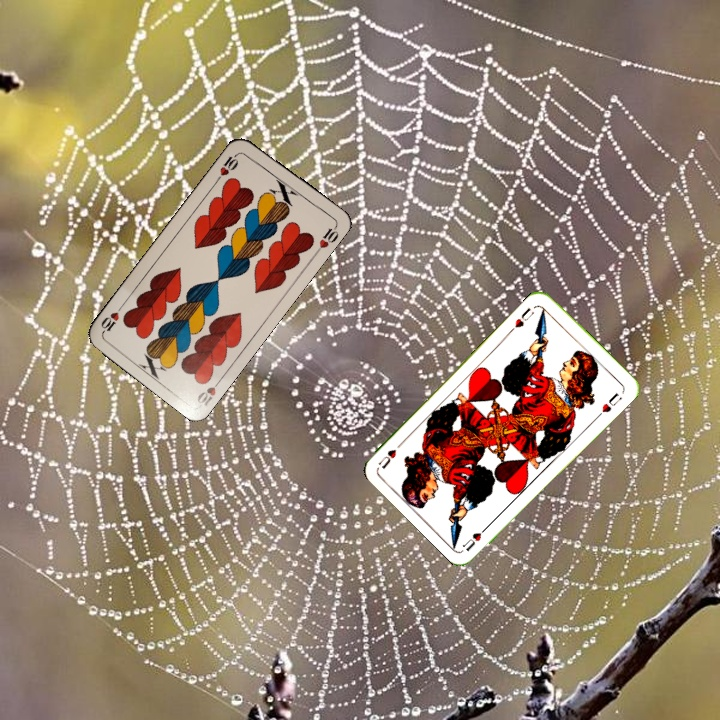H10: (193, 373, 225, 409), (212, 149, 242, 184)
HU: (458, 521, 492, 553), (511, 304, 537, 330)
